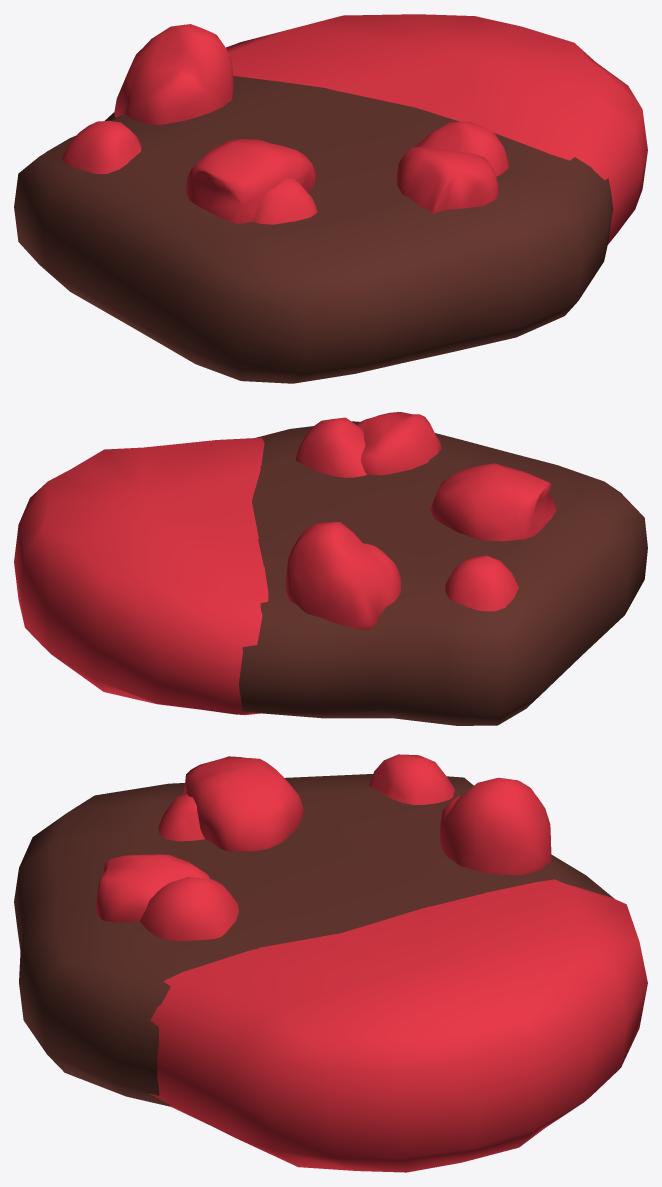
Rendered from RubyGemOre.fbx.
3 renders of one model, top to bottom at view 1: azimuth 30°, elevation 25°; view 2: azimuth 150°, elevation 25°; view 3: azimuth 270°, elevation 25°, orthographic. The views are drawn at different scales.
Visible parts, largest first — view 1: Cube.205; view 2: Cube.205; view 3: Cube.205.
Boxes of the visible parts, box(x1,y1,x2,y2) form: Cube.205: box(14, 14, 647, 383); Cube.205: box(14, 412, 647, 725); Cube.205: box(14, 754, 647, 1172).
Bounding box in the file's own units: 2.07 × 0.7424 × 1.89.
1 material, 1 textured.
